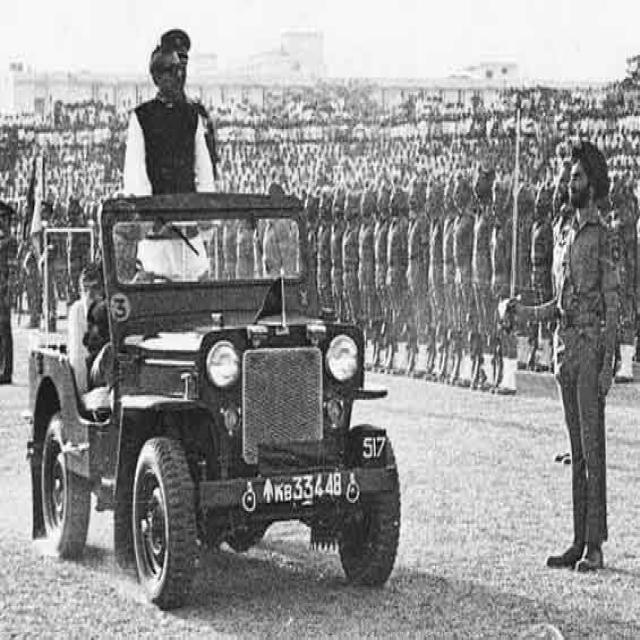military-plate: (253, 473, 348, 503)
